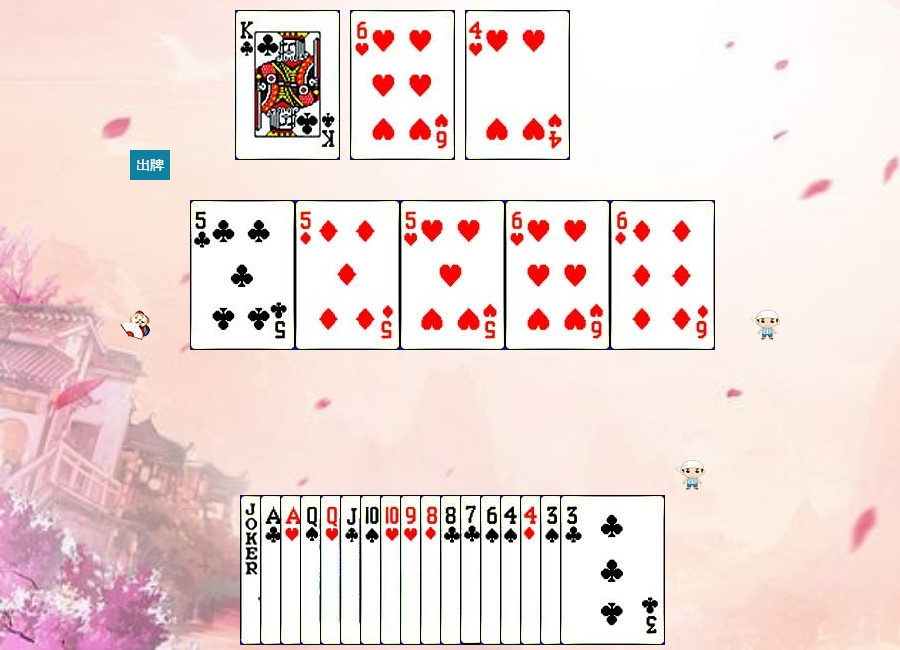10~3: (380, 495, 485, 645)
10~4: (360, 495, 465, 645)
11~2: (340, 495, 445, 645)
12~3: (320, 495, 425, 645)
12~4: (300, 495, 405, 645)
13~2: (235, 10, 340, 160)
14~2: (260, 495, 365, 645)
14~3: (280, 495, 385, 645)
17~3: (240, 495, 345, 645)
3~2: (560, 495, 665, 645)
3~4: (540, 495, 645, 645)
4~1: (520, 495, 625, 645)
4~3: (465, 10, 570, 160)
4~4: (500, 495, 605, 645)
5~1: (295, 200, 400, 350)
5~2: (190, 200, 295, 350)
5~3: (400, 200, 505, 350)
6~1: (610, 200, 715, 350)
6~3: (350, 10, 455, 160), (505, 200, 610, 350)
6~4: (480, 495, 585, 645)
7~2: (460, 495, 565, 645)
8~1: (420, 495, 525, 645)
8~2: (440, 495, 545, 645)
9~3: (400, 495, 505, 645)
